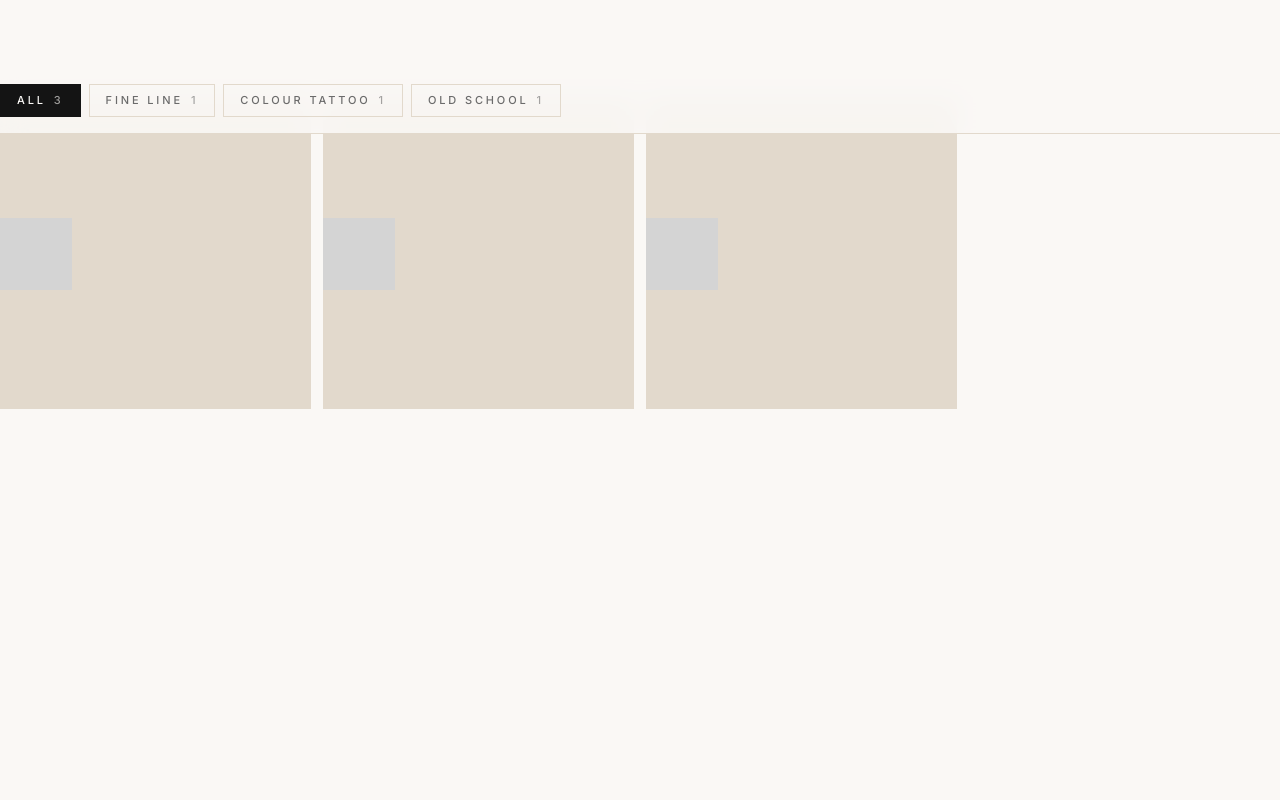
Test case: GalleryGrid › opens lightbox when an image is clicked
Click the button named "View Tattoo 1": click(36, 254) [0,98,311,409]
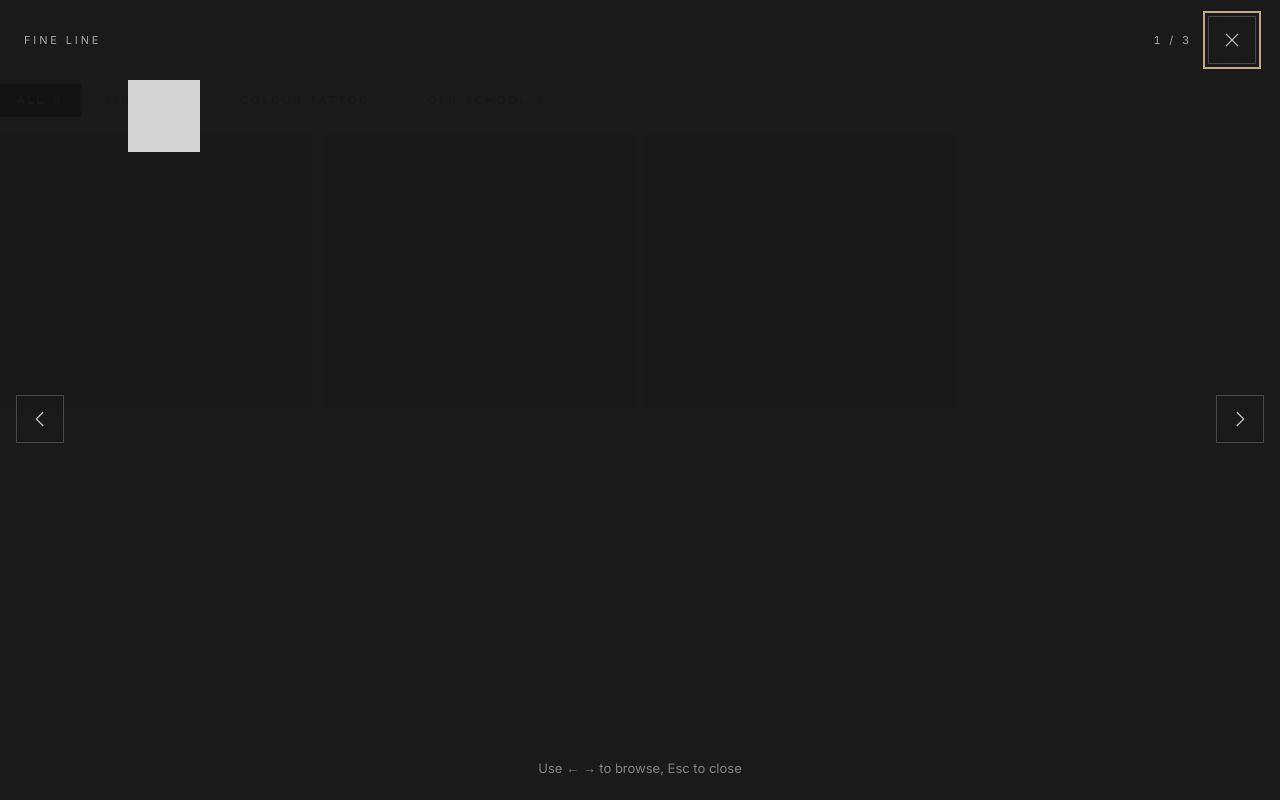
Check: the dialog is shown
